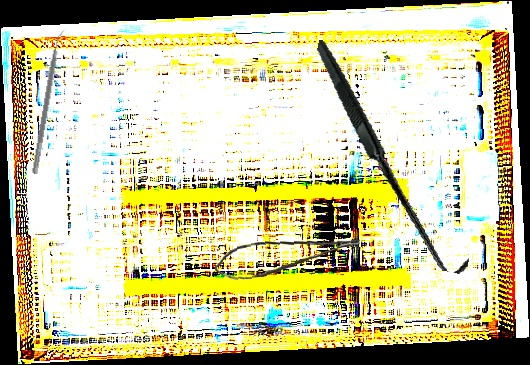Hook Surgical: (280, 39, 505, 276)
Micro Scissor: (212, 233, 363, 284)
Spatula Surgical: (31, 28, 67, 176)
